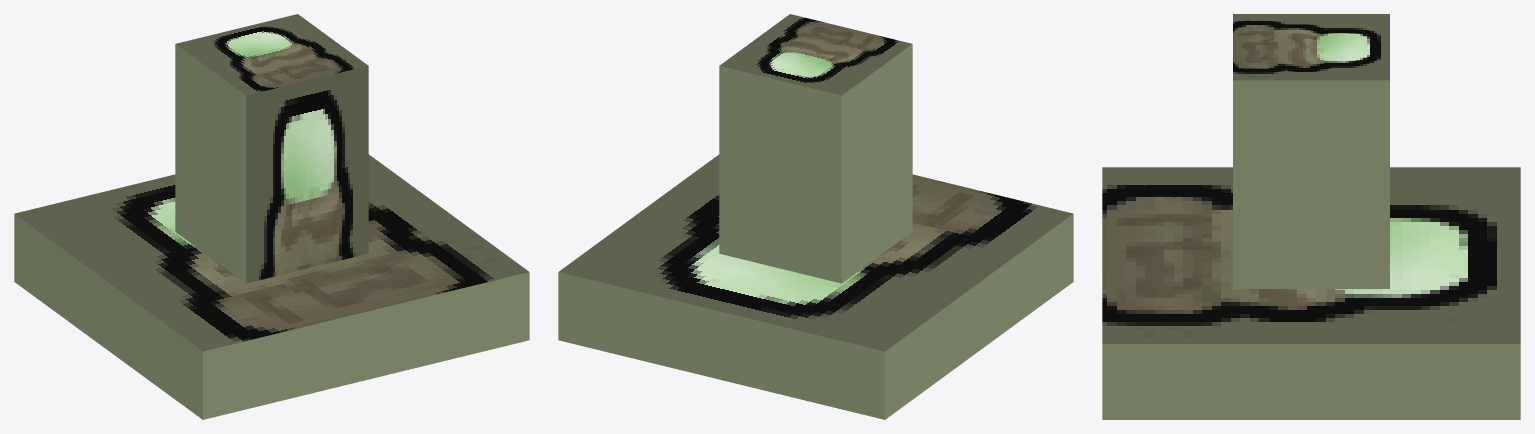
The model's file is Building_GlowPod.glb.
3 renders of one model, left to right at view 1: azimuth 30°, elevation 25°; view 2: azimuth 150°, elevation 25°; view 3: azimuth 270°, elevation 25°, orthographic. The views are drawn at different scales.
Visible parts, largest first — view 1: GlowPod; view 2: GlowPod; view 3: GlowPod.
Boxes of the visible parts, box(x1,y1,x2,y2) form: GlowPod: box(14, 14, 529, 419); GlowPod: box(558, 14, 1073, 419); GlowPod: box(1102, 14, 1520, 419).
Size of the model in its own units: 0.8 by 0.6 by 0.8.
1 material, 1 textured.
